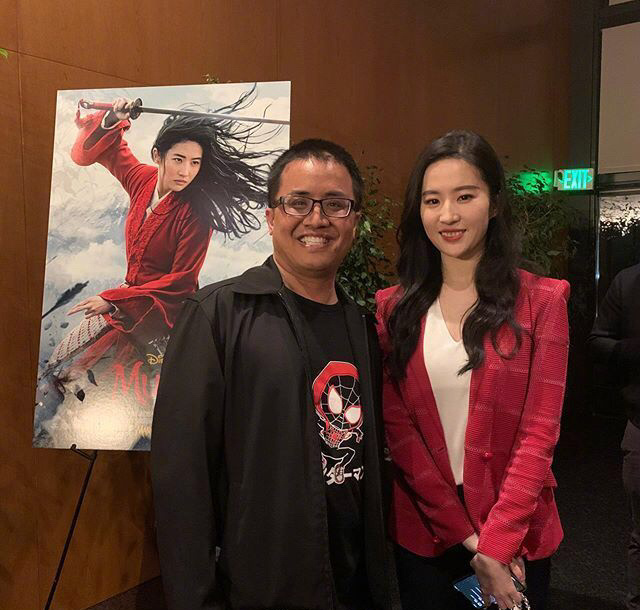noWear: (265, 180, 358, 269), (417, 177, 500, 255)
